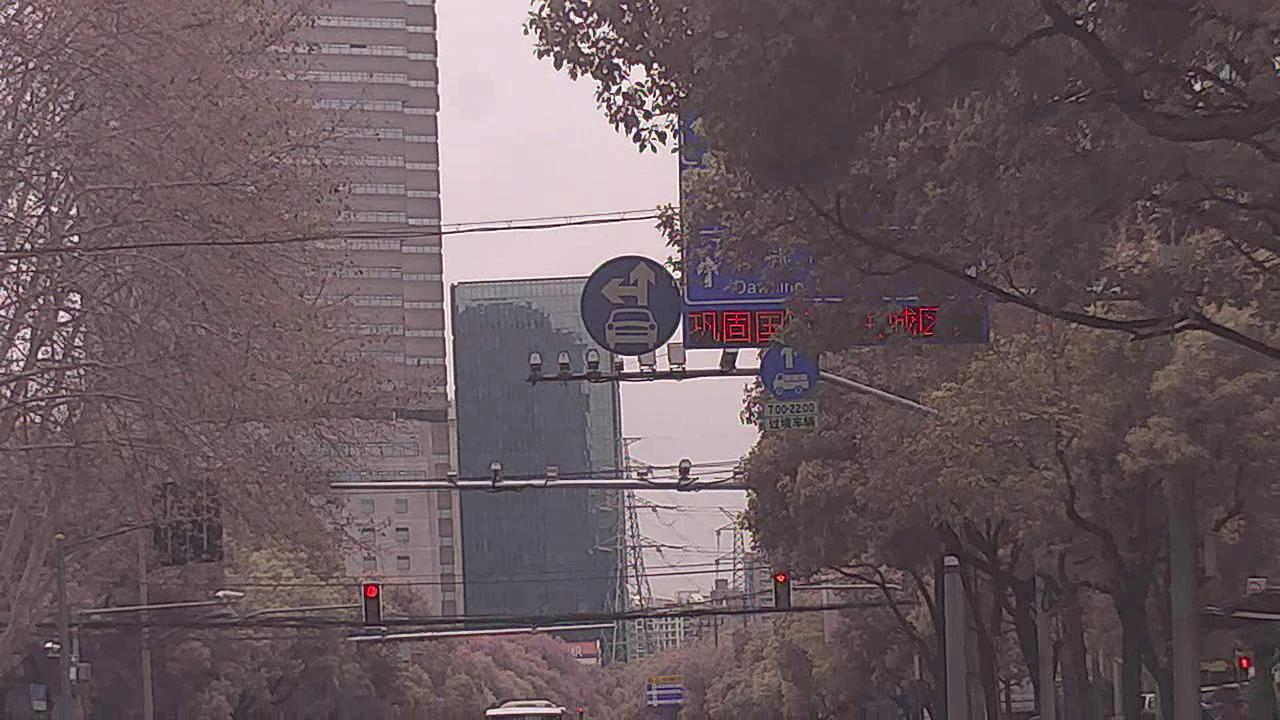traffic_light: (362, 584, 384, 625), (774, 569, 792, 611)
